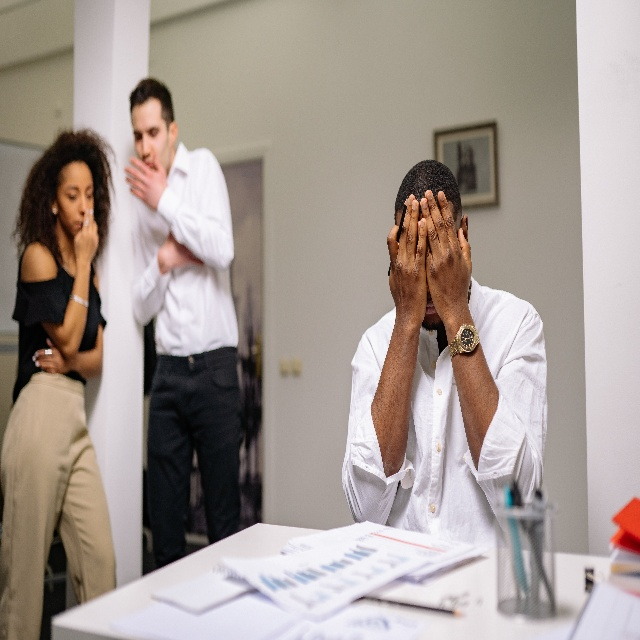Sin_guantes: (416, 187, 471, 325), (385, 193, 429, 330), (124, 155, 169, 210), (159, 229, 204, 267), (32, 338, 76, 374), (73, 208, 100, 262)
